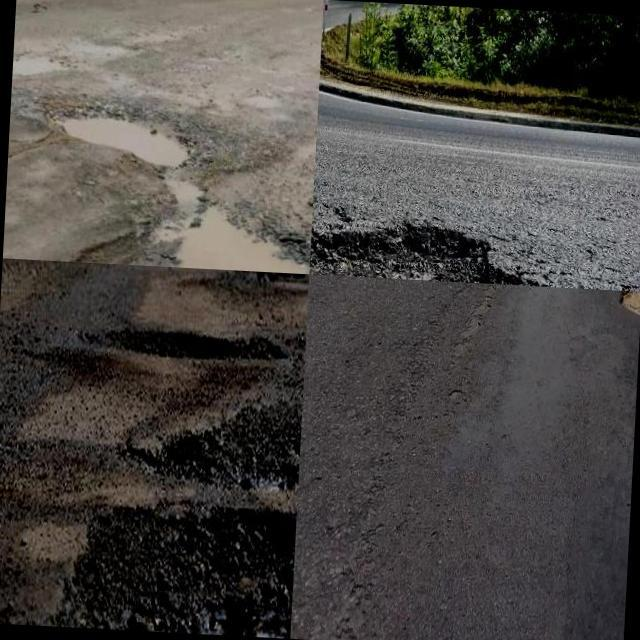Pothole: (57, 507, 297, 639), (150, 174, 310, 274), (122, 405, 302, 489), (309, 229, 516, 285), (50, 114, 194, 166), (85, 330, 287, 364)
